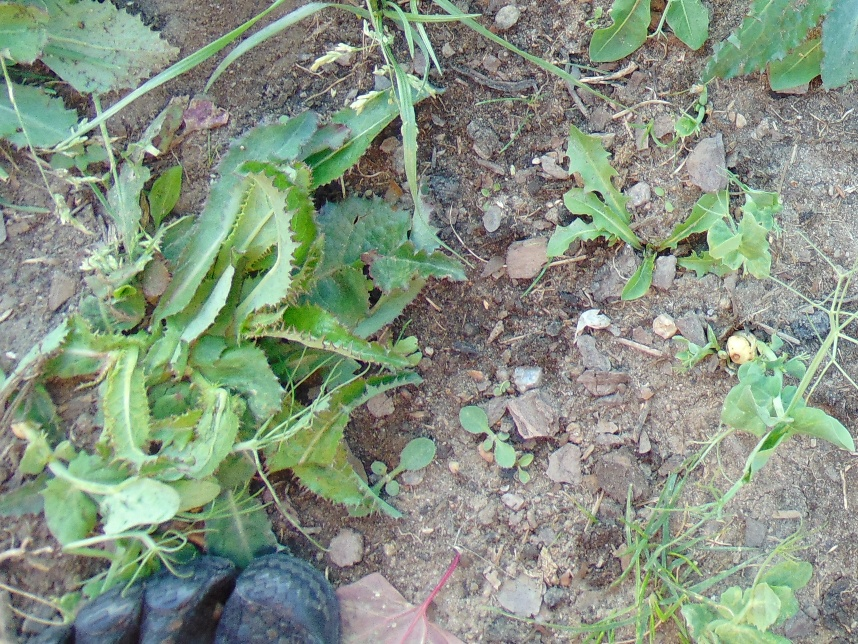crop: (679, 281, 858, 521), (12, 420, 218, 571), (704, 164, 788, 288), (670, 319, 747, 374), (231, 413, 296, 477), (45, 573, 114, 620), (675, 99, 714, 140)
weed: (45, 68, 466, 427), (552, 129, 726, 305), (1, 1, 186, 153), (270, 358, 425, 527), (311, 1, 465, 117), (700, 2, 858, 89), (4, 315, 121, 431), (585, 1, 714, 67), (460, 404, 531, 483), (368, 435, 437, 509), (645, 1, 705, 52), (216, 517, 279, 551), (1, 477, 41, 525)
